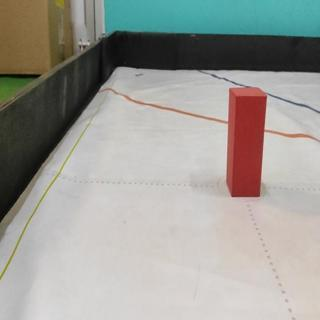redbox: (226, 85, 266, 198)
